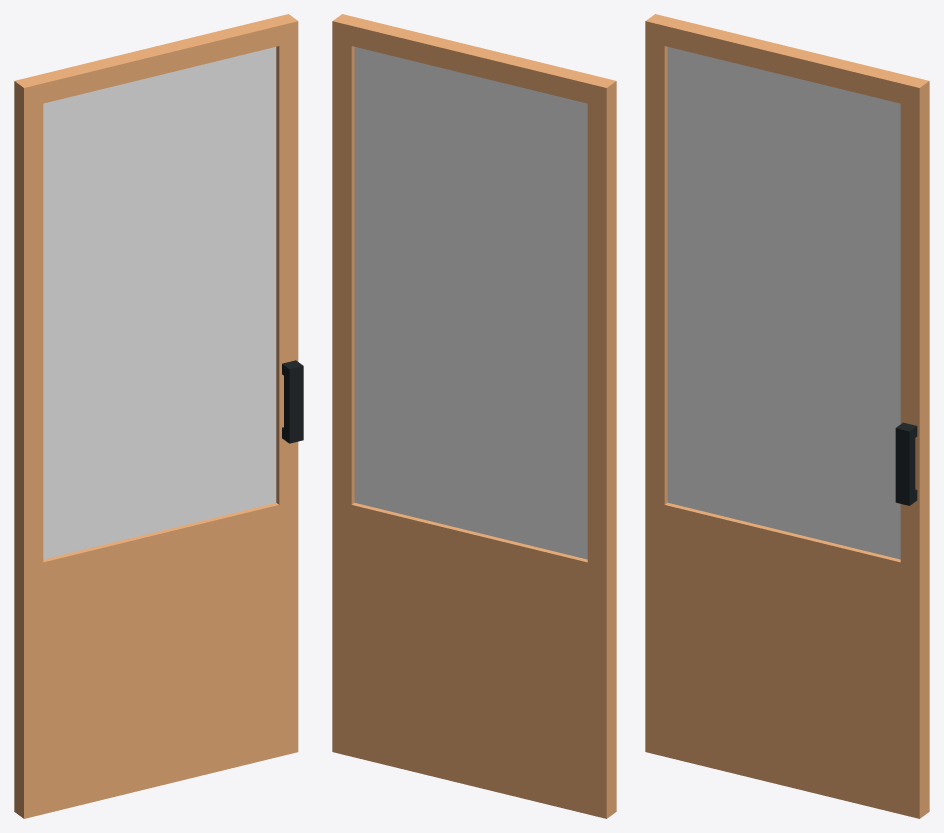
Rendered from Coffee_03_Door01.fbx.
The picture shows the model from 3 angles, left to right: view 1: azimuth 30°, elevation 25°; view 2: azimuth 150°, elevation 25°; view 3: azimuth 330°, elevation 25°; orthographic projection.
Parts seen in each view (by area): view 1: Coffee_03_Door01; view 2: Coffee_03_Door01; view 3: Coffee_03_Door01.
Boxes of the visible parts, x1,y1,x2,y2 form: Coffee_03_Door01: (14,14,303,818); Coffee_03_Door01: (332,14,616,818); Coffee_03_Door01: (645,14,929,818).
Size of the model in its own units: 80.96 by 206 by 8.91.
